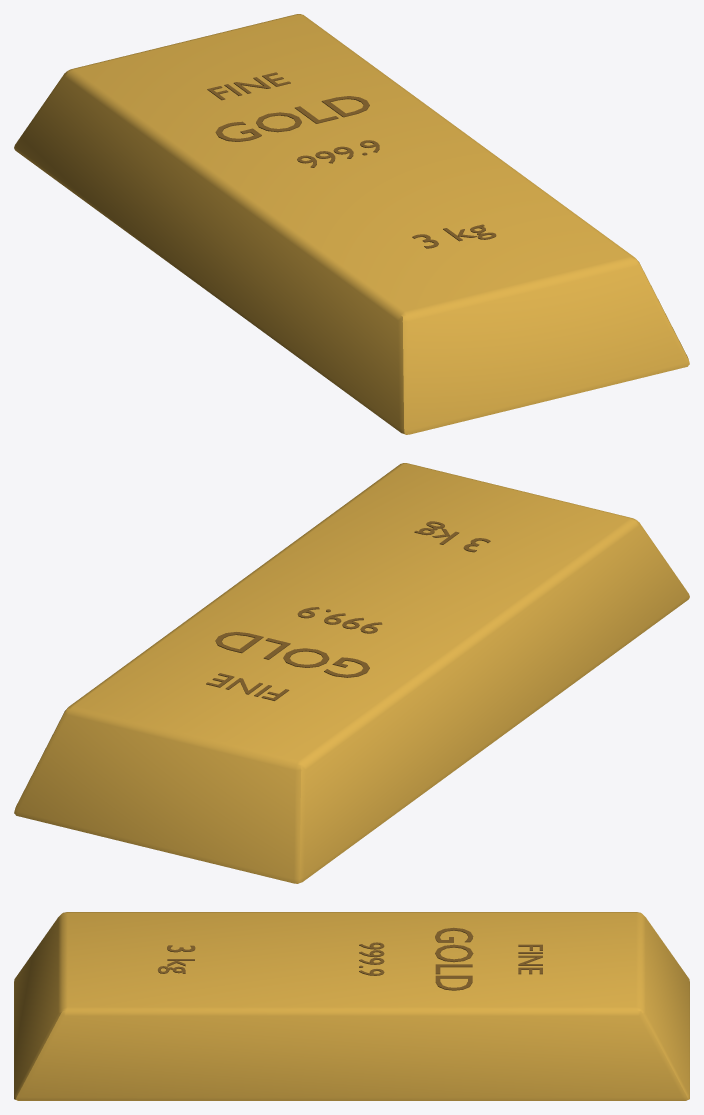
File: gold_ingot.glb
3 renders of one model, top to bottom at view 1: azimuth 30°, elevation 25°; view 2: azimuth 150°, elevation 25°; view 3: azimuth 270°, elevation 25°, orthographic. The views are drawn at different scales.
Visible parts, largest first — view 1: gold_ingot_static_0, gold_ingot_static_1; view 2: gold_ingot_static_0, gold_ingot_static_1; view 3: gold_ingot_static_0, gold_ingot_static_1.
Boxes of the visible parts, box(x1,y1,x2,y2) form: gold_ingot_static_0: box(14, 14, 689, 434); gold_ingot_static_1: box(207, 72, 496, 248); gold_ingot_static_0: box(14, 463, 689, 883); gold_ingot_static_1: box(206, 521, 490, 700); gold_ingot_static_0: box(14, 912, 689, 1100); gold_ingot_static_1: box(158, 927, 542, 990).
Size of the model in its own units: 0.0632 by 0.0202 by 0.1489.
